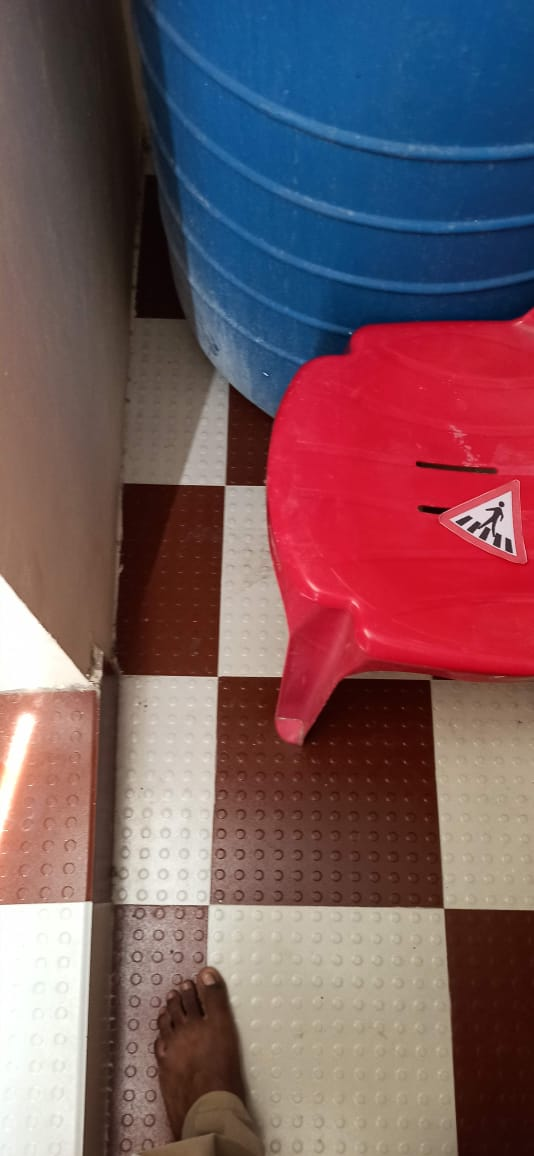PEDESTRIAN CROSSING: (425, 453, 534, 574)
